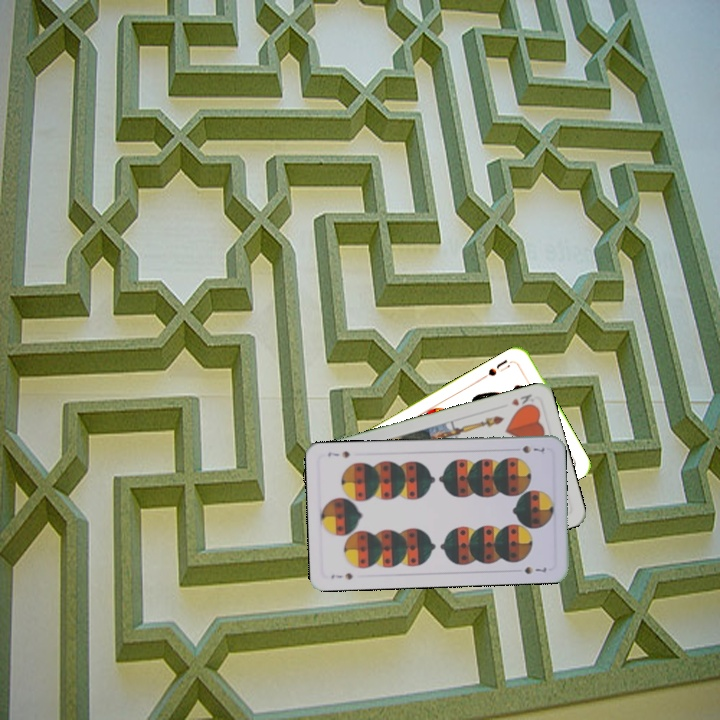HK: (507, 390, 537, 413)
S7: (518, 441, 547, 455), (327, 569, 355, 582)
SU: (479, 356, 517, 381)
